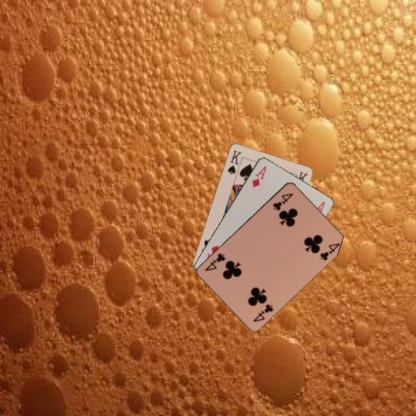4c: (270, 190, 295, 212), (250, 301, 275, 323)
Ad: (249, 163, 268, 188)
Ks: (224, 147, 242, 176)
